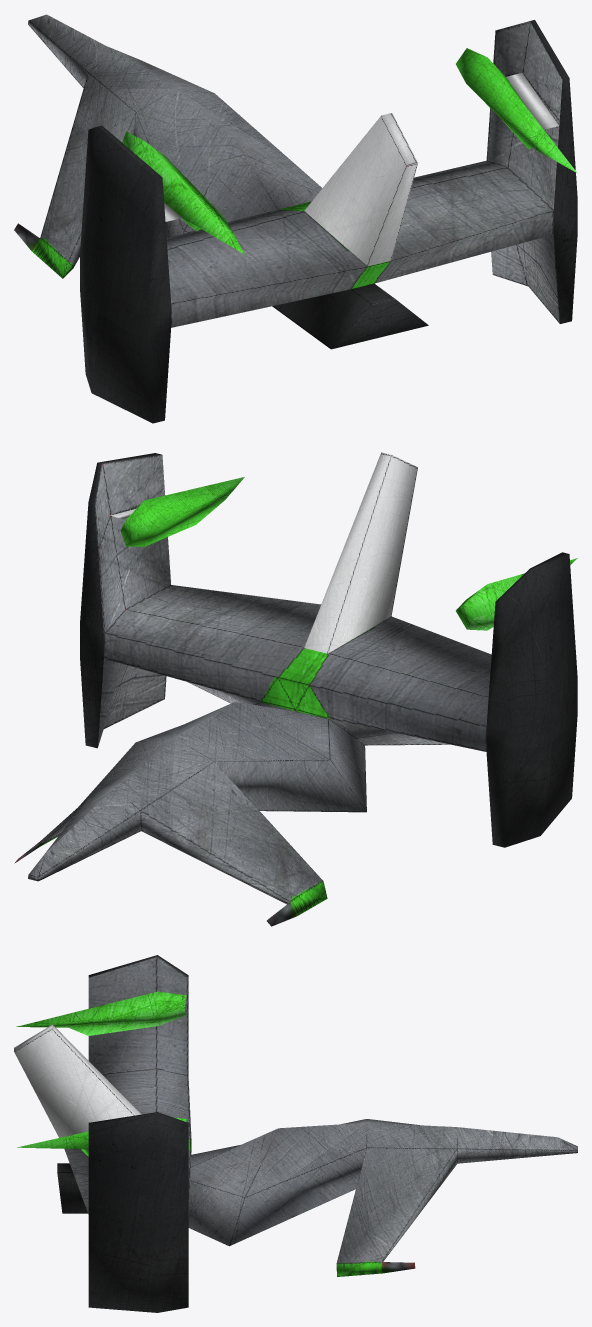
Rendered from spaceship.fbx.
3 renders of one model, top to bottom at view 1: azimuth 30°, elevation 25°; view 2: azimuth 150°, elevation 25°; view 3: azimuth 270°, elevation 25°, orthographic. The views are drawn at different scales.
Parts seen in each view (by area): view 1: Cube; view 2: Cube; view 3: Cube.
Boxes of the visible parts, <box> form: Cube: <box>14,14,577,423</box>; Cube: <box>14,452,577,926</box>; Cube: <box>14,955,577,1312</box>.
Size of the model in its own units: 3.97 by 2.26 by 5.64.
Materials: 1 (1 with a texture image).
